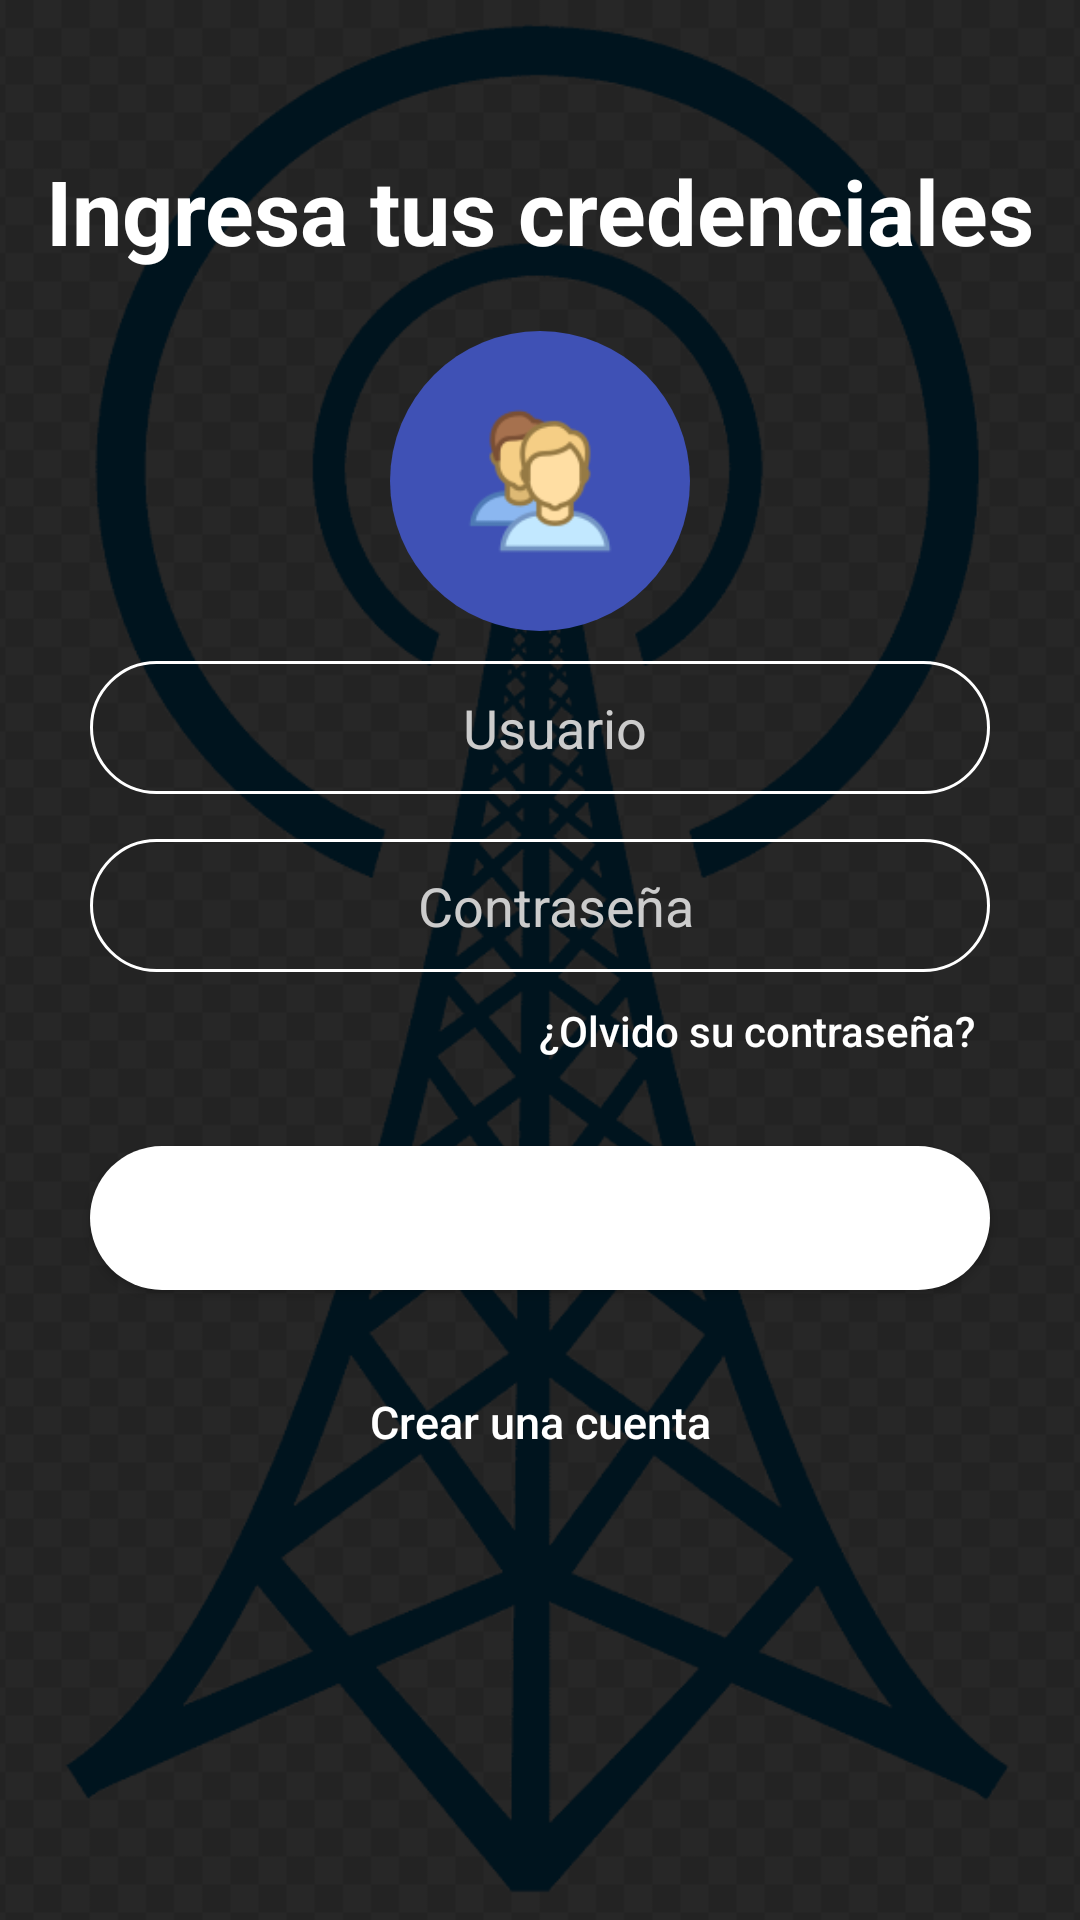

Icon click points for this 1080×1920 phone screenshot, format (x,y):
user: (540,480)
